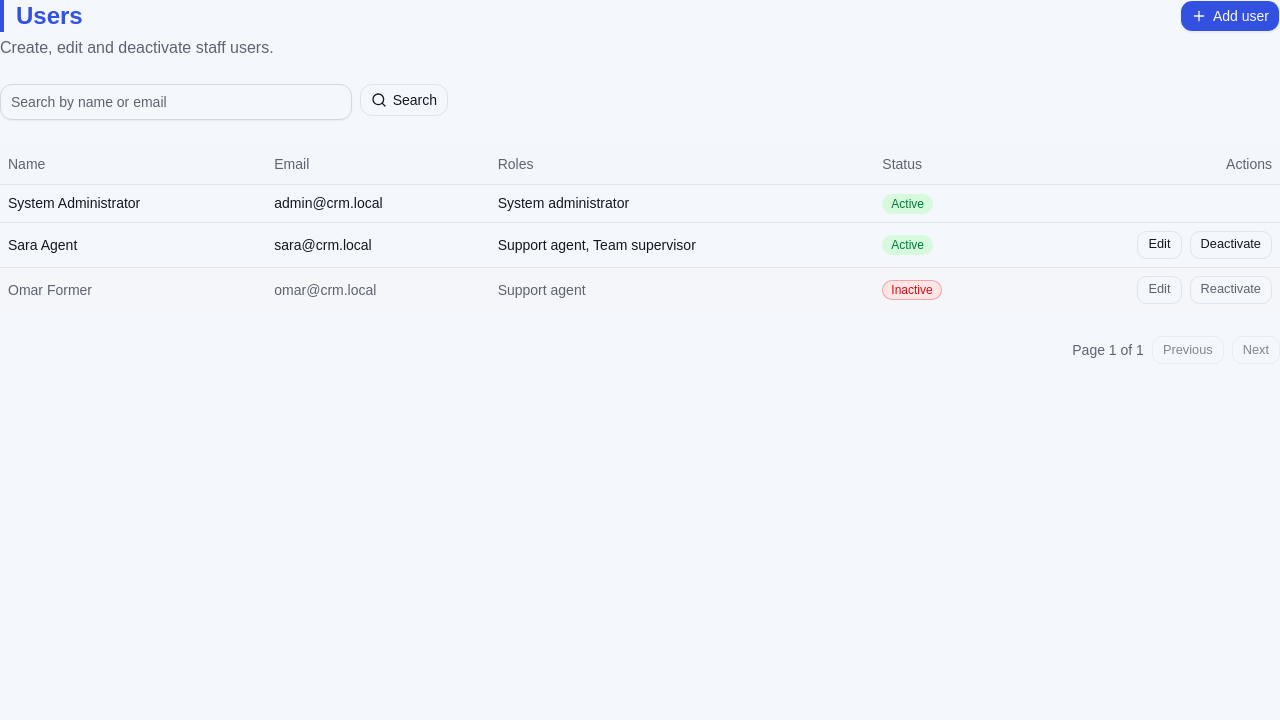
UsersPage › creates a user and reloads the list
Expected: the row "Sara Agent" is shown, [0,222,1279,267]
Click the button "Add user".
click(1230, 16)  # box [1180,0,1279,32]
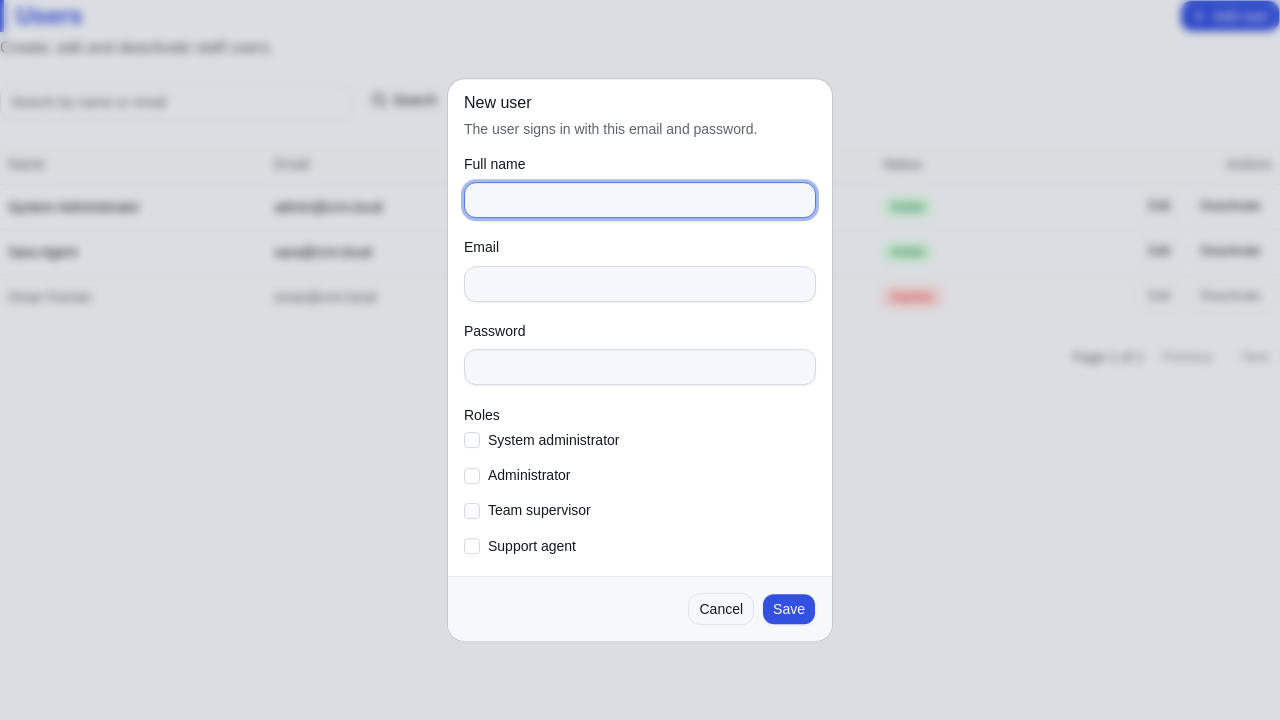
Type "Lina New" into the field labelled "Full name".
click(640, 200); type("Lina New")  # box [464,182,816,218]
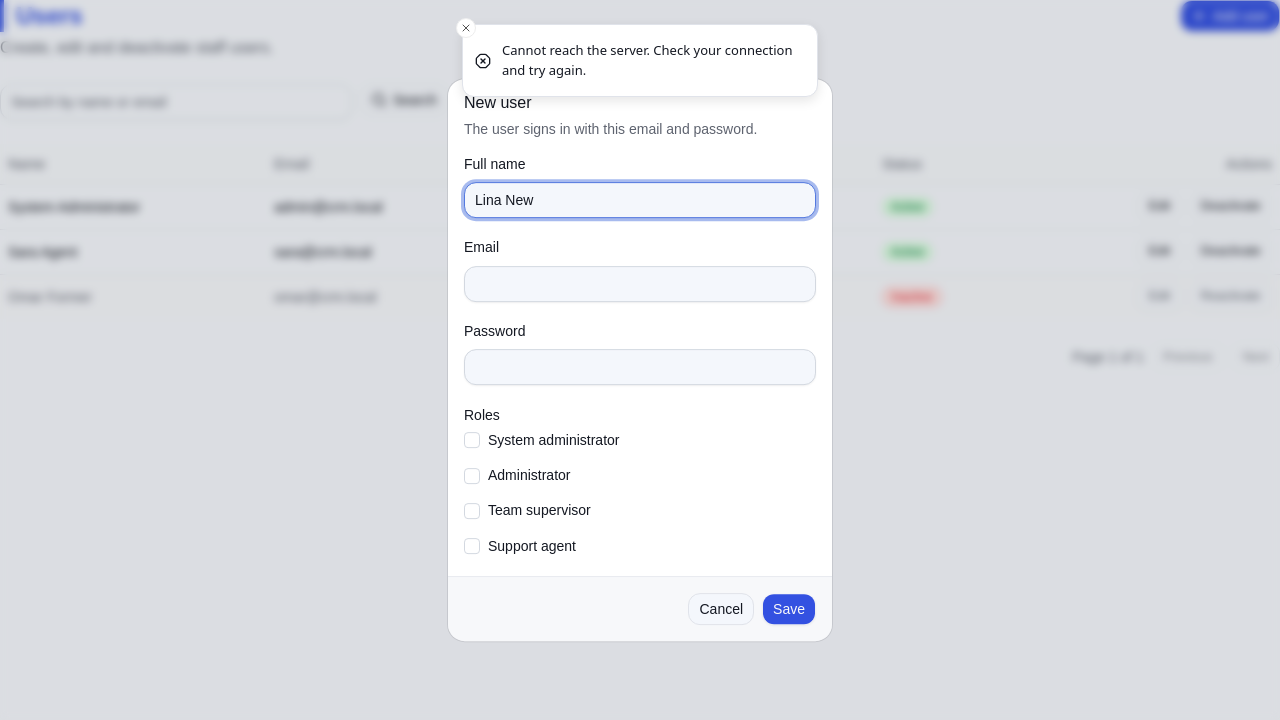
Type "lina@crm.local" into the field labelled "Email".
click(640, 284); type("lina@crm.local")  # box [464,266,816,302]
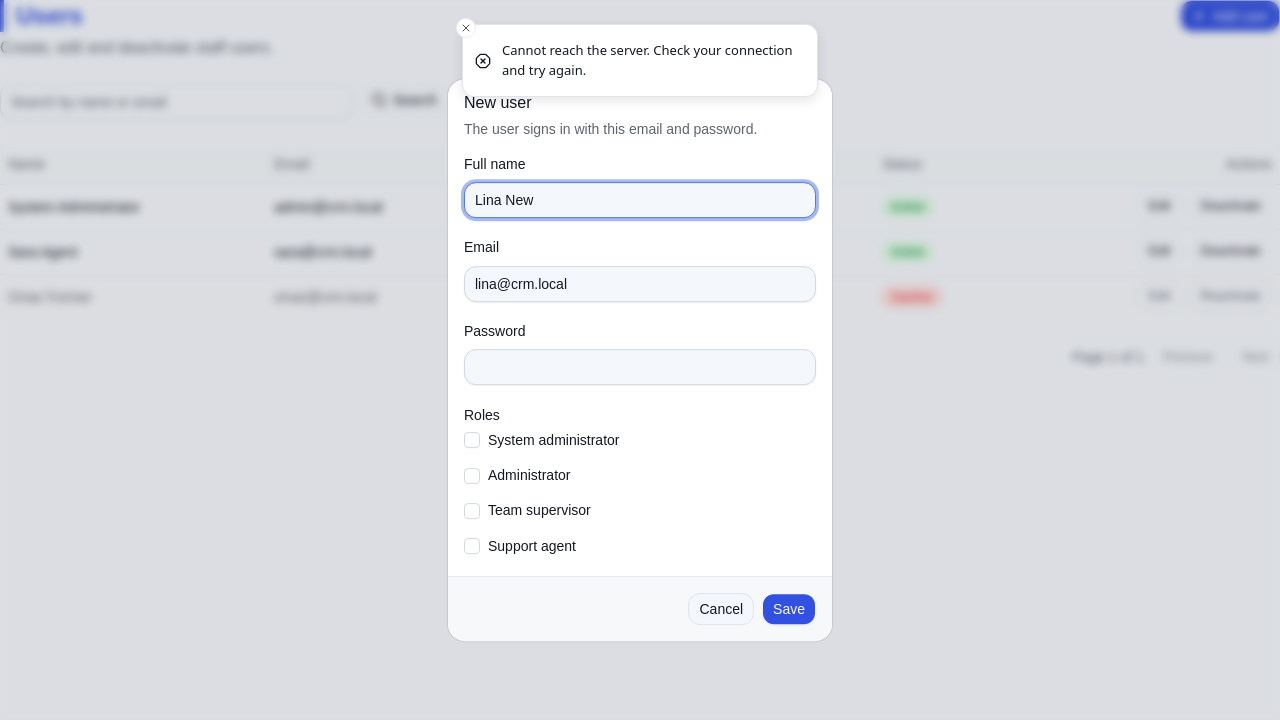
Type "Agent#Pass1" into the password field labelled "Password".
click(640, 367); type("Agent#Pass1")  # box [464,349,816,385]
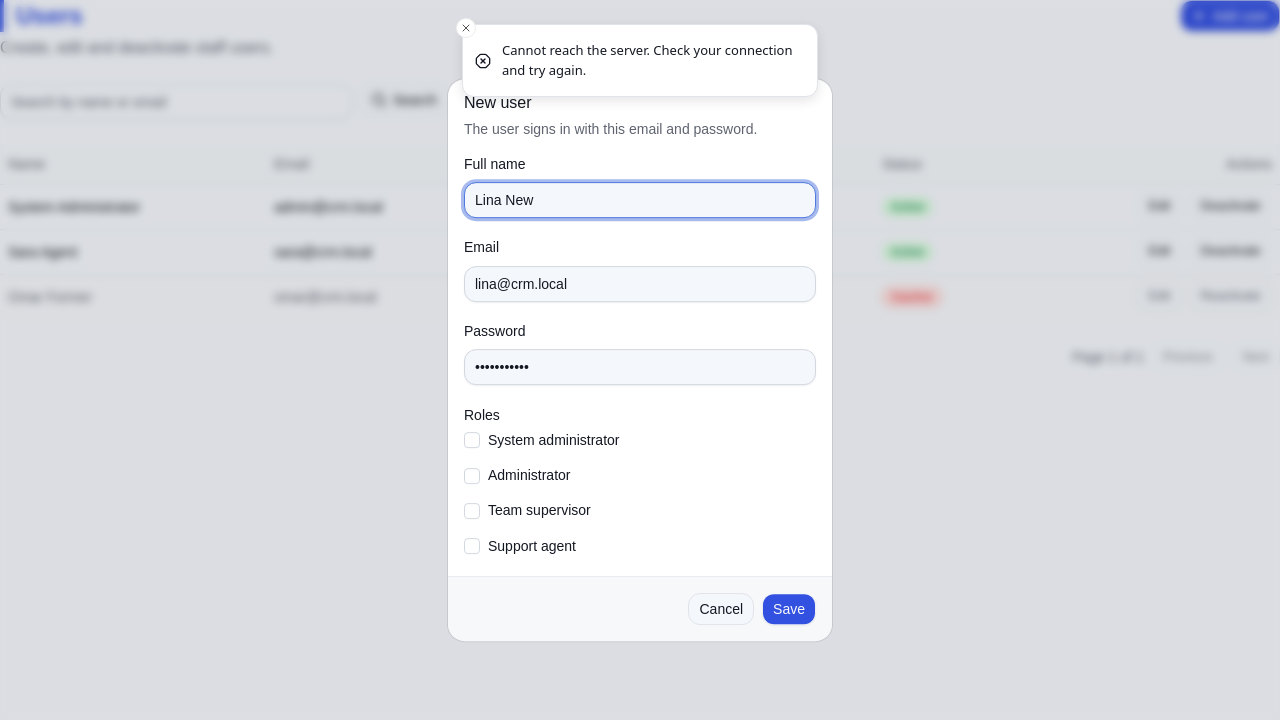
Click the 4th checkbox named "Support agent".
click(472, 546)  # box [464,538,480,554]
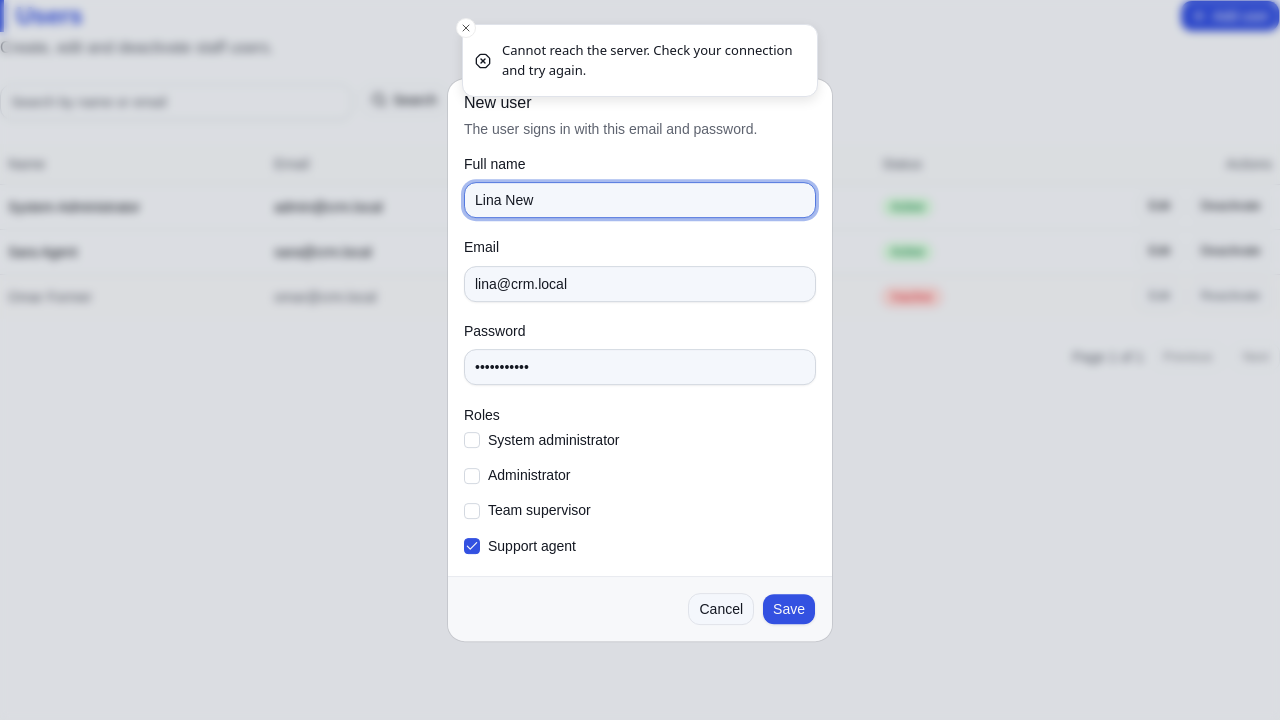
Click the button "Save".
click(789, 609)  # box [762,593,816,625]
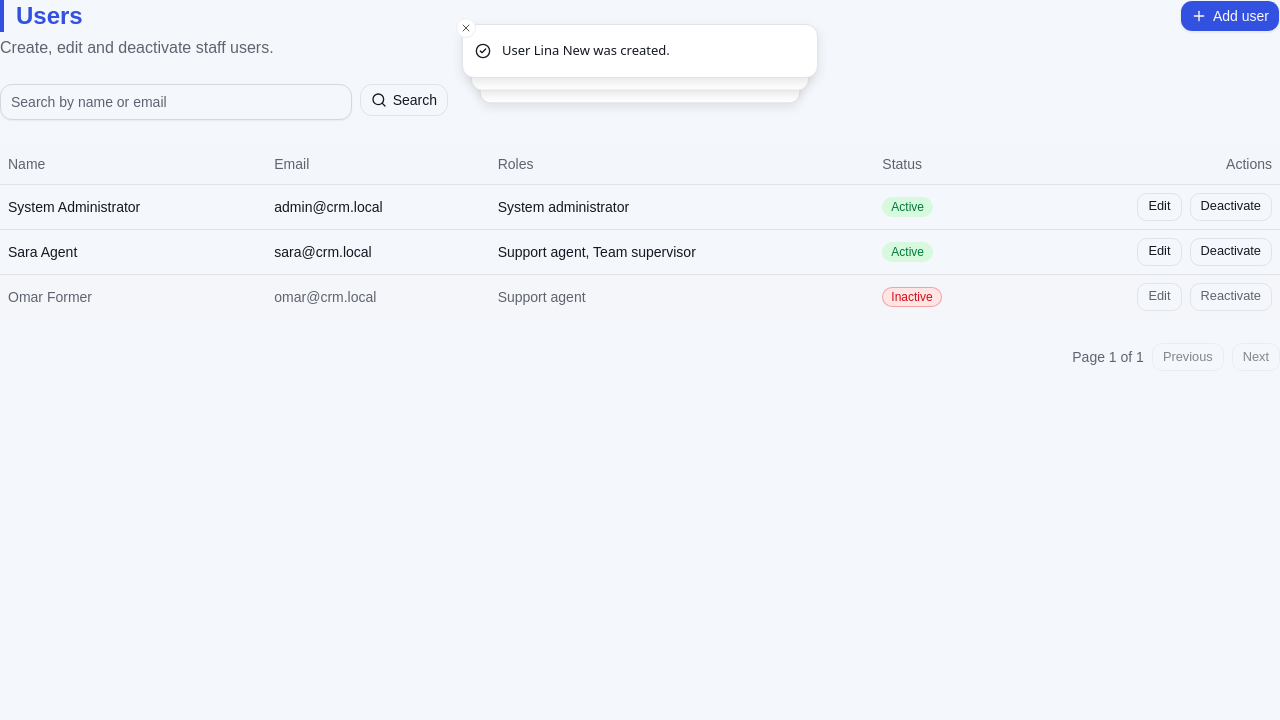
Now the dialog is gone
Now the text "User Lina New was created." is shown, box [502,41,670,60]
